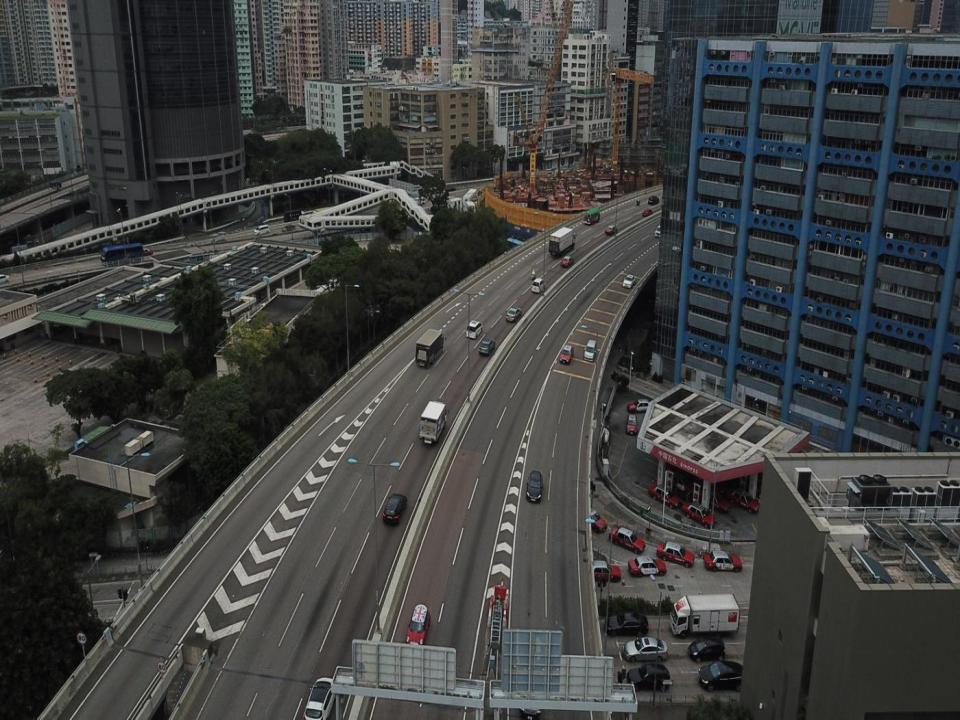bus: (99, 242, 144, 265)
car: (698, 659, 747, 693), (303, 674, 337, 719), (622, 634, 669, 664), (402, 603, 430, 650), (627, 664, 672, 693), (724, 481, 761, 514), (656, 536, 694, 568), (607, 526, 645, 556), (606, 610, 648, 636), (681, 499, 716, 530), (702, 549, 744, 574), (628, 553, 666, 580), (687, 635, 724, 661), (590, 557, 622, 585), (382, 492, 407, 526), (650, 480, 680, 508), (584, 500, 608, 534), (524, 468, 544, 504), (466, 317, 484, 340), (626, 397, 651, 413), (624, 411, 640, 436), (477, 336, 496, 356), (559, 342, 573, 366), (504, 304, 521, 322), (622, 270, 636, 290), (532, 276, 545, 292), (604, 222, 617, 236), (561, 254, 573, 269), (647, 194, 660, 207), (138, 244, 153, 255), (282, 224, 294, 232), (642, 206, 653, 214)
truck: (670, 593, 741, 640), (418, 399, 450, 447), (414, 327, 445, 367), (546, 226, 578, 258), (582, 206, 601, 224)
van: (582, 338, 597, 363), (253, 224, 270, 236)
